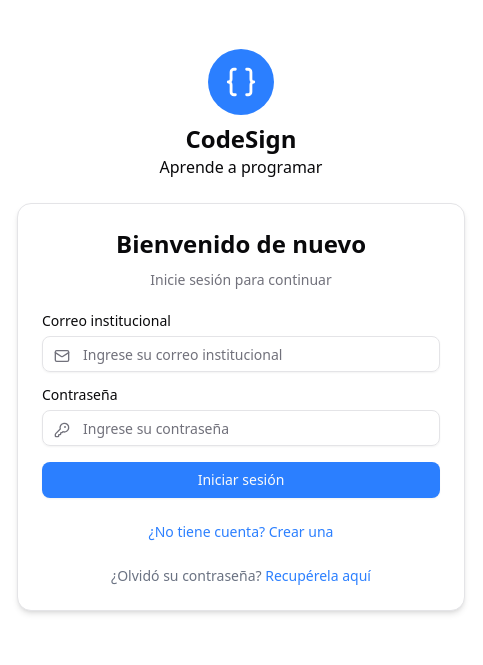
it: AuthLayout › displays error message when form fails
The width and height of the screenshot is (483, 665).
Type "test@example.com" into the field with test id "email-input" at (241, 354), box left=42, top=336, right=440, bottom=372
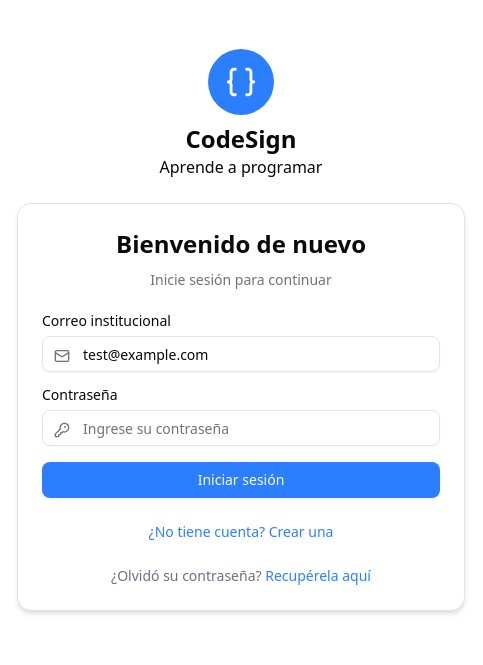
Type "wrongpassword" into the password field with test id "password-input" at (241, 428), box left=42, top=410, right=440, bottom=446
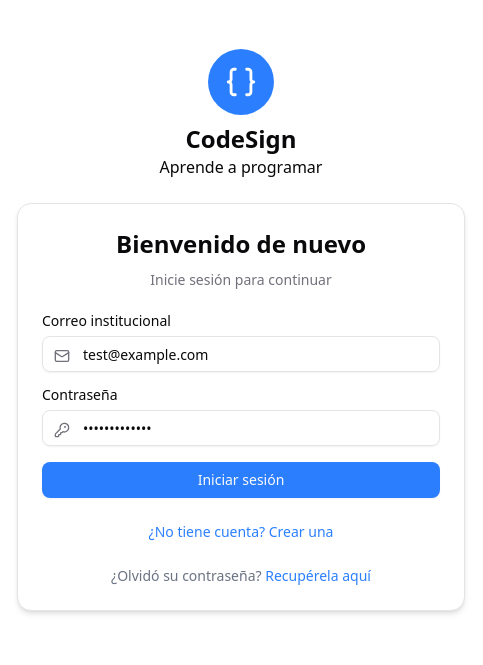
Click the button with test id "login-submit" at (241, 480), box left=42, top=462, right=440, bottom=498
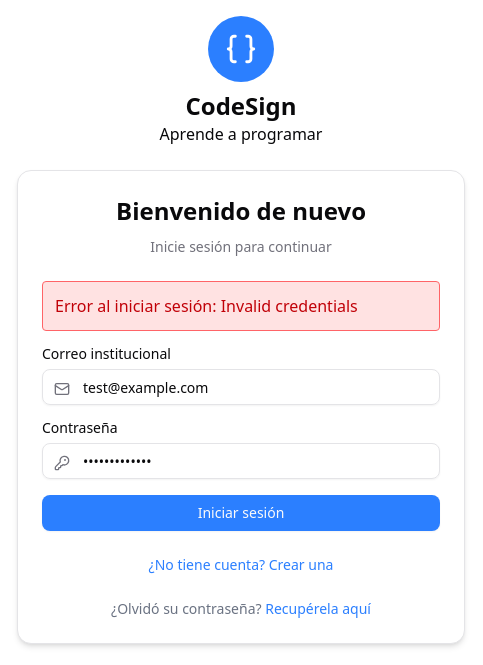
Check: the text "Error al iniciar sesión: Invalid credentials" is shown, box left=42, top=281, right=440, bottom=331
